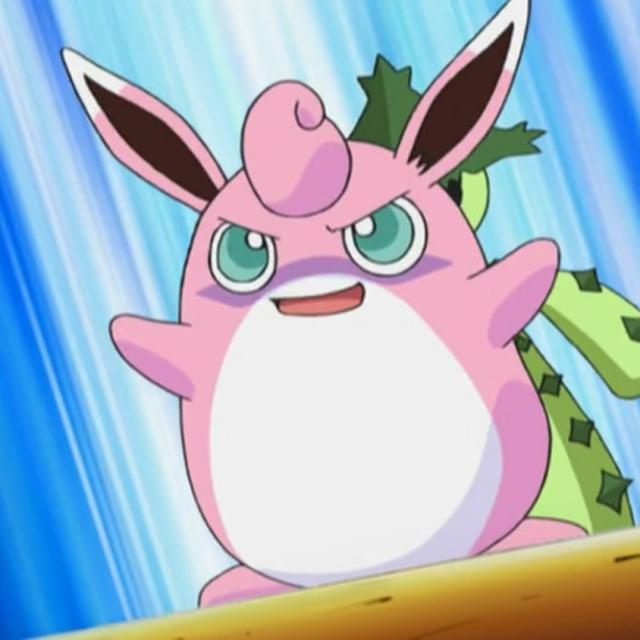Wigglytuff: (149, 77, 547, 608)
